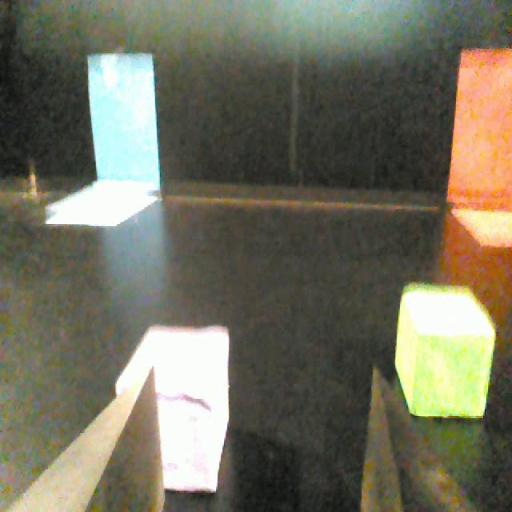cube: (104, 313, 234, 498), (393, 282, 498, 422)
